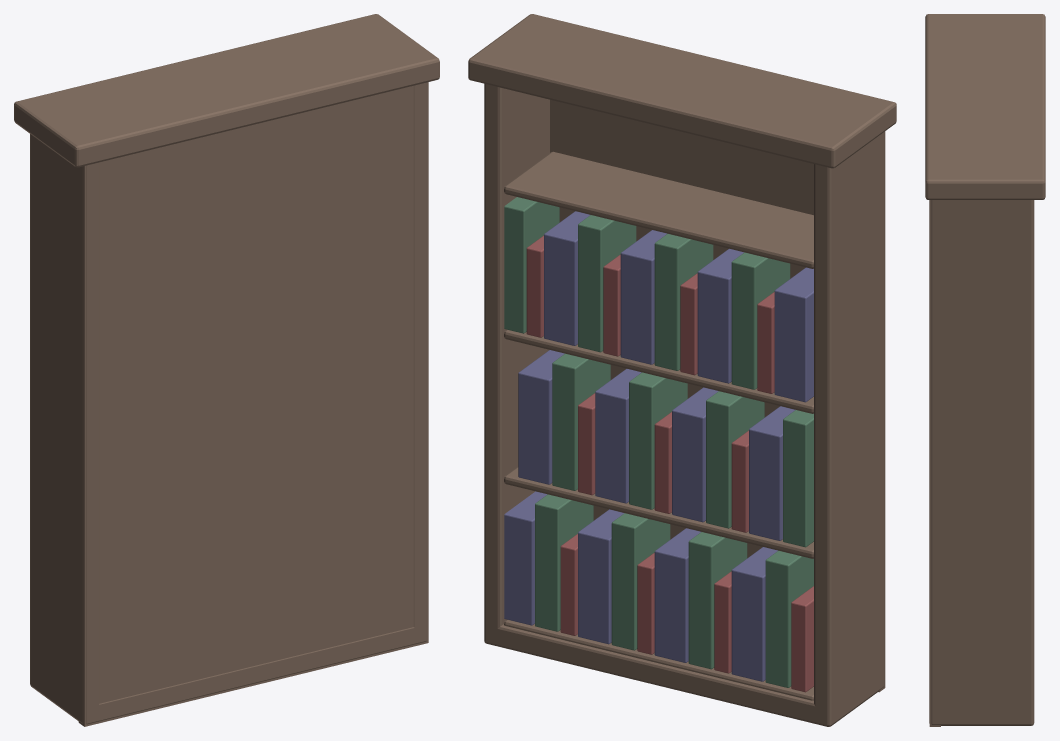
The model's file is Bookshelf.glb.
3 views of the same model, side by side, from view 1: azimuth 30°, elevation 25°; view 2: azimuth 150°, elevation 25°; view 3: azimuth 270°, elevation 25° (orthographic). The views are drawn at different scales.
Parts seen in each view (by area): view 1: Bookshelf_DarkWood; view 2: Bookshelf_DarkWood, Bookshelf_BookGreen, Bookshelf_BookBlue, Bookshelf_BookRed; view 3: Bookshelf_DarkWood.
Boxes of the visible parts, x1,y1,x2,y2 form: Bookshelf_DarkWood: (14,14,439,726); Bookshelf_DarkWood: (468,14,896,726); Bookshelf_BookGreen: (504,197,813,687); Bookshelf_BookBlue: (504,211,813,681); Bookshelf_BookRed: (526,235,813,692); Bookshelf_DarkWood: (925,14,1045,726).
Bounding box in the file's own units: 5.3 × 8.1 × 1.6.
